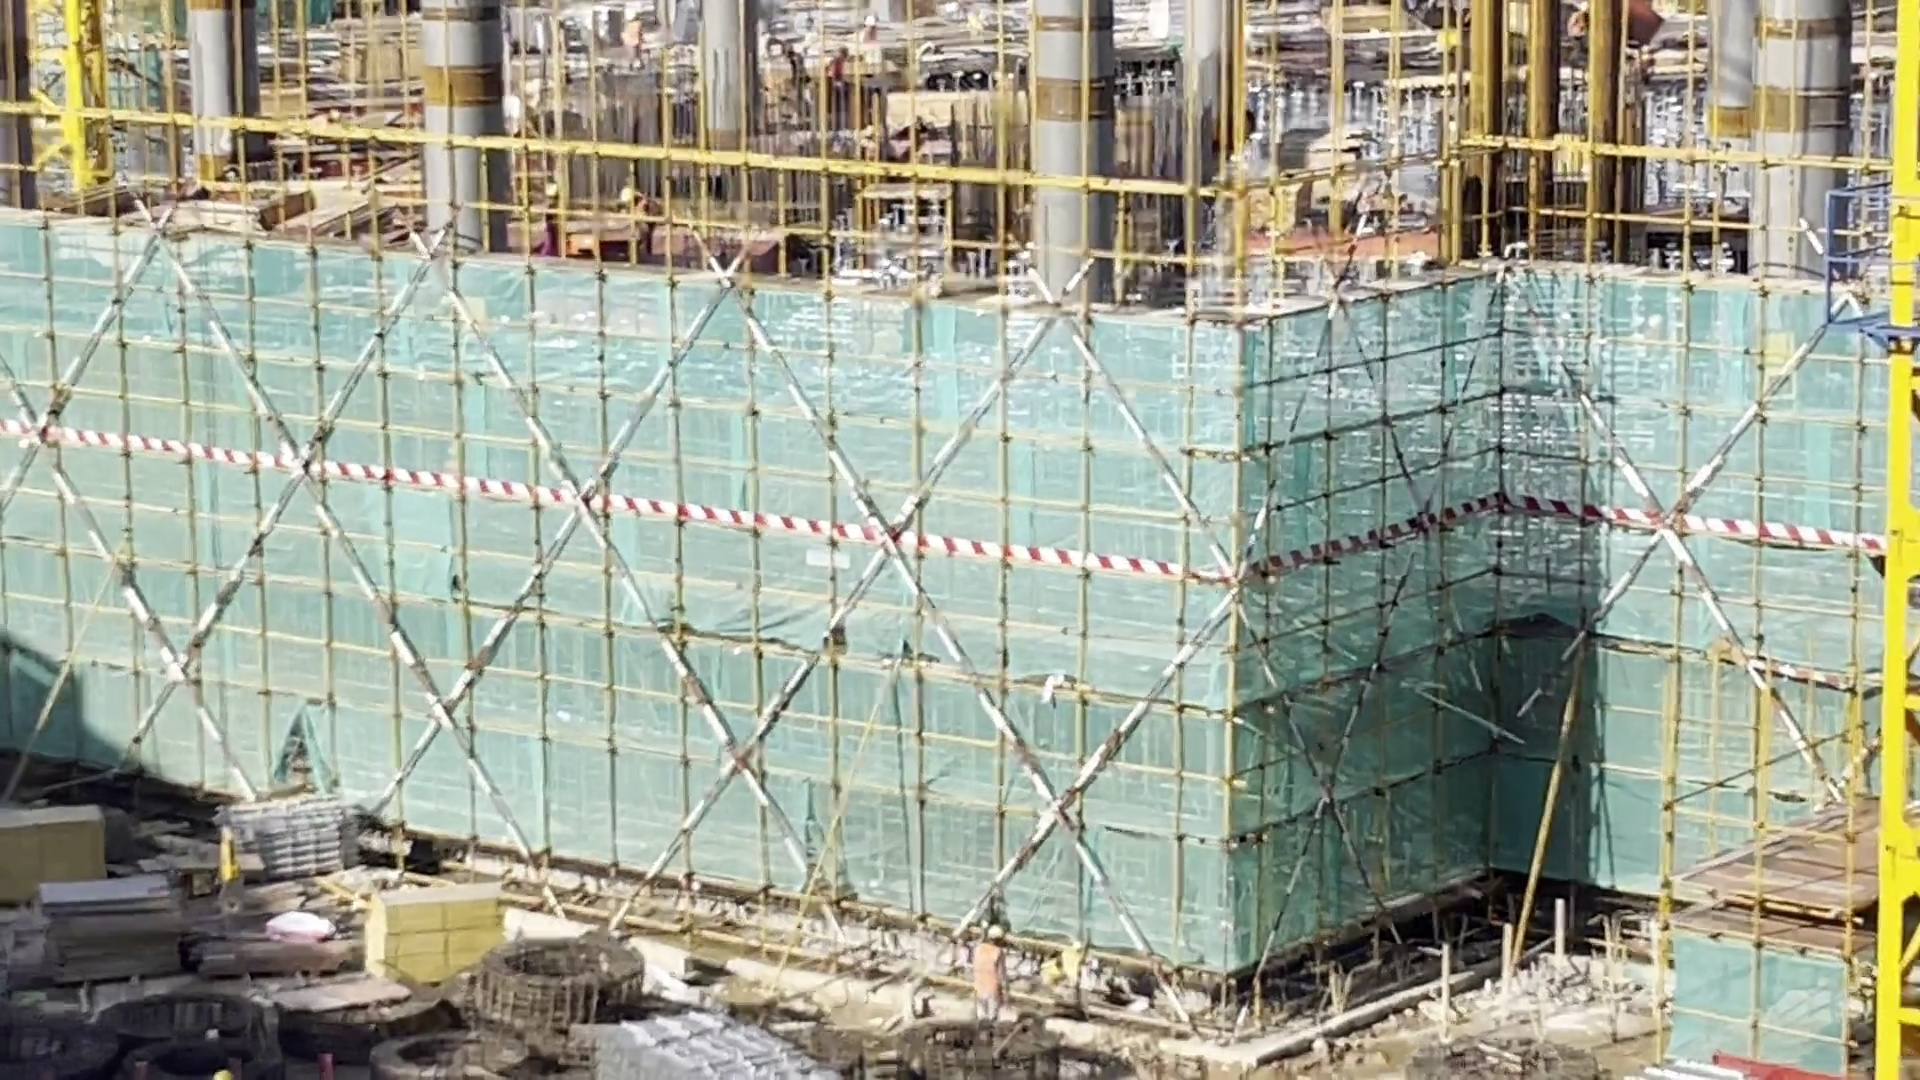board: (46, 883, 190, 985), (367, 891, 509, 976), (1, 808, 106, 893)
helmet: (983, 925, 1004, 940), (212, 1070, 231, 1080)
person: (974, 926, 1014, 1027)
scaffold: (592, 1018, 803, 1080), (246, 807, 356, 876)
